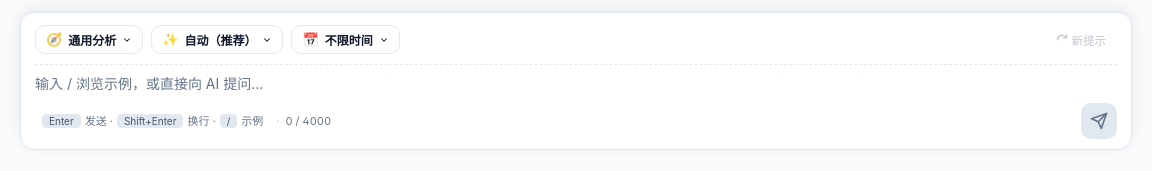
it: InputBar › send button is enabled when input has text
Type "你好" into the text box at (576, 84), box x1=35 y1=73 x2=1117 y2=95
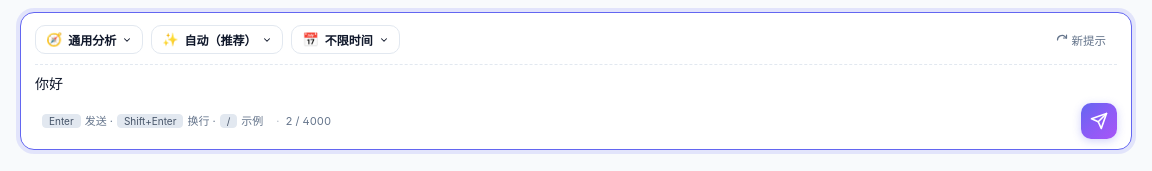
Expected: the button named "发送" is enabled, x1=1081 y1=103 x2=1117 y2=139
